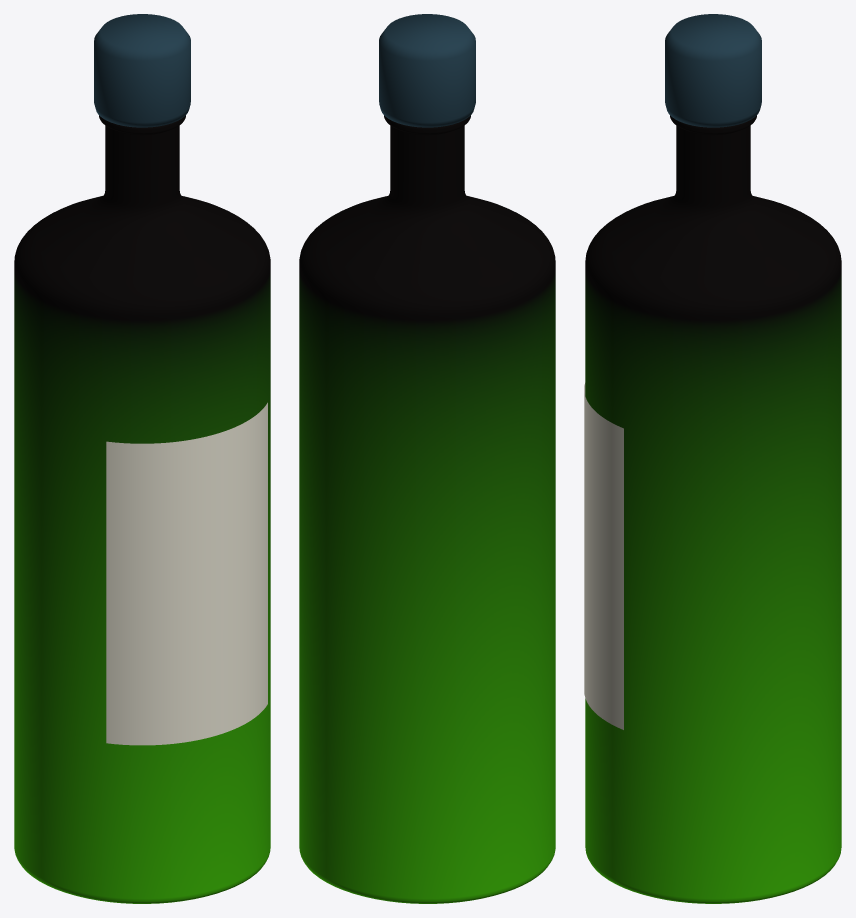
The model's file is GinBottle.fbx.
3 views of the same model, side by side, from view 1: azimuth 30°, elevation 25°; view 2: azimuth 150°, elevation 25°; view 3: azimuth 270°, elevation 25° (orthographic).
Parts seen in each view (by area): view 1: GinBottle::BlueGlassShell, GinBottle::FrontLabel, GinBottle::BottleCap; view 2: GinBottle::BlueGlassShell, GinBottle::BottleCap; view 3: GinBottle::BlueGlassShell, GinBottle::FrontLabel, GinBottle::BottleCap.
Part boxes in pixels (box(x1,y1,x2,y2)): GinBottle::BlueGlassShell: box(14, 115, 270, 903); GinBottle::FrontLabel: box(106, 402, 267, 745); GinBottle::BottleCap: box(94, 14, 190, 127); GinBottle::BlueGlassShell: box(299, 115, 555, 903); GinBottle::BottleCap: box(379, 14, 475, 127); GinBottle::BlueGlassShell: box(585, 115, 841, 903); GinBottle::FrontLabel: box(584, 383, 623, 729); GinBottle::BottleCap: box(665, 14, 761, 127).
Size of the model in its own units: 7.94 by 28 by 7.97.
